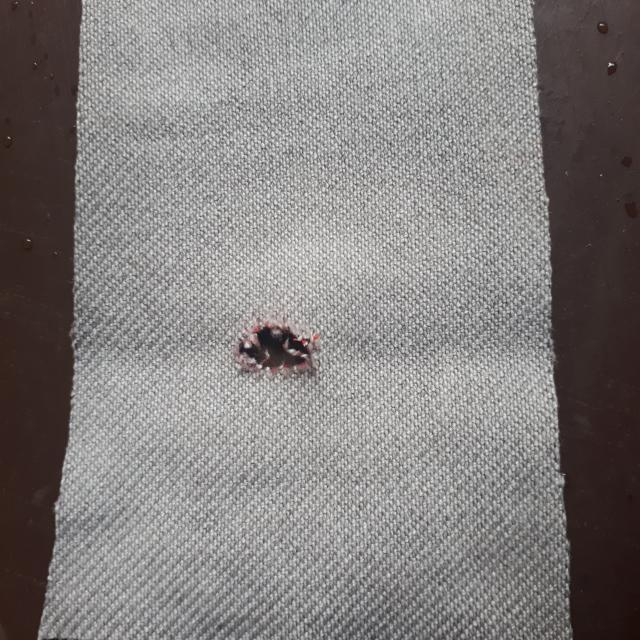other: (232, 322, 318, 378)
